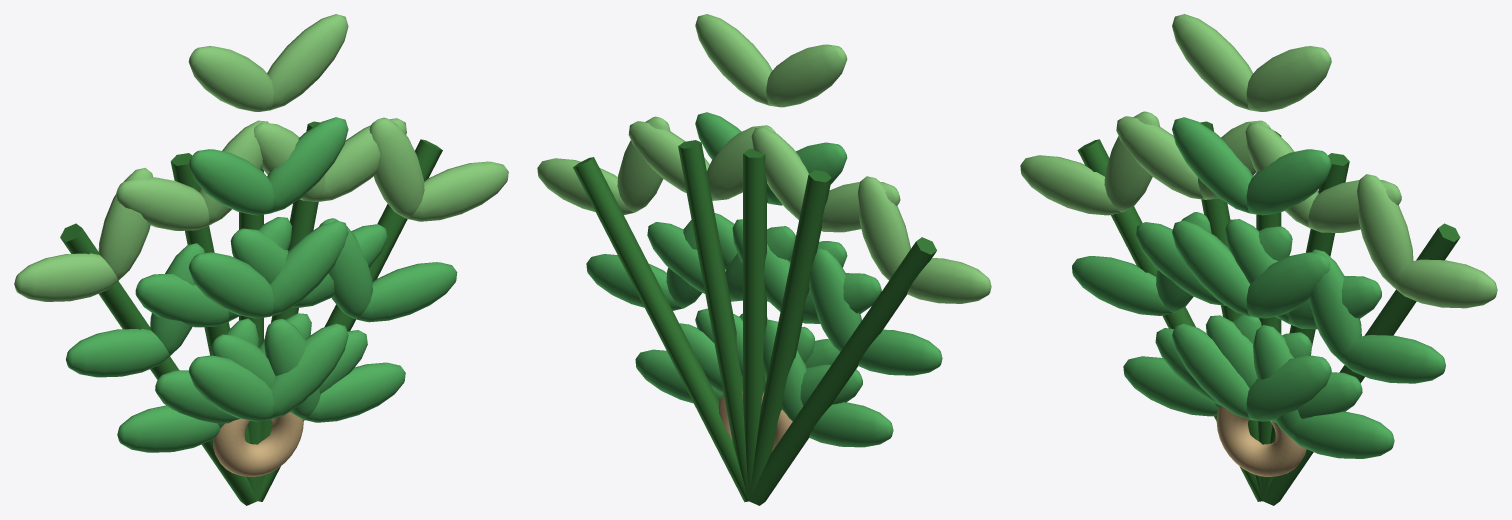
File: mat_herb.glb
3 views of the same model, side by side, from view 1: azimuth 30°, elevation 25°; view 2: azimuth 150°, elevation 25°; view 3: azimuth 330°, elevation 25° (orthographic). The views are drawn at different scales.
Parts seen in each view (by area): view 1: _cyl; view 2: _cyl; view 3: _cyl.
Boxes of the visible parts, x1,y1,x2,y2 form: _cyl: (14,14,508,505); _cyl: (537,14,991,505); _cyl: (1020,14,1497,505).
Size of the model in its own units: 0.9859 by 0.9367 by 0.112.
